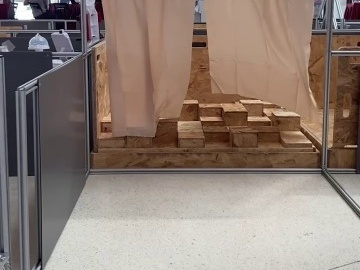curtain: (94, 0, 328, 140)
